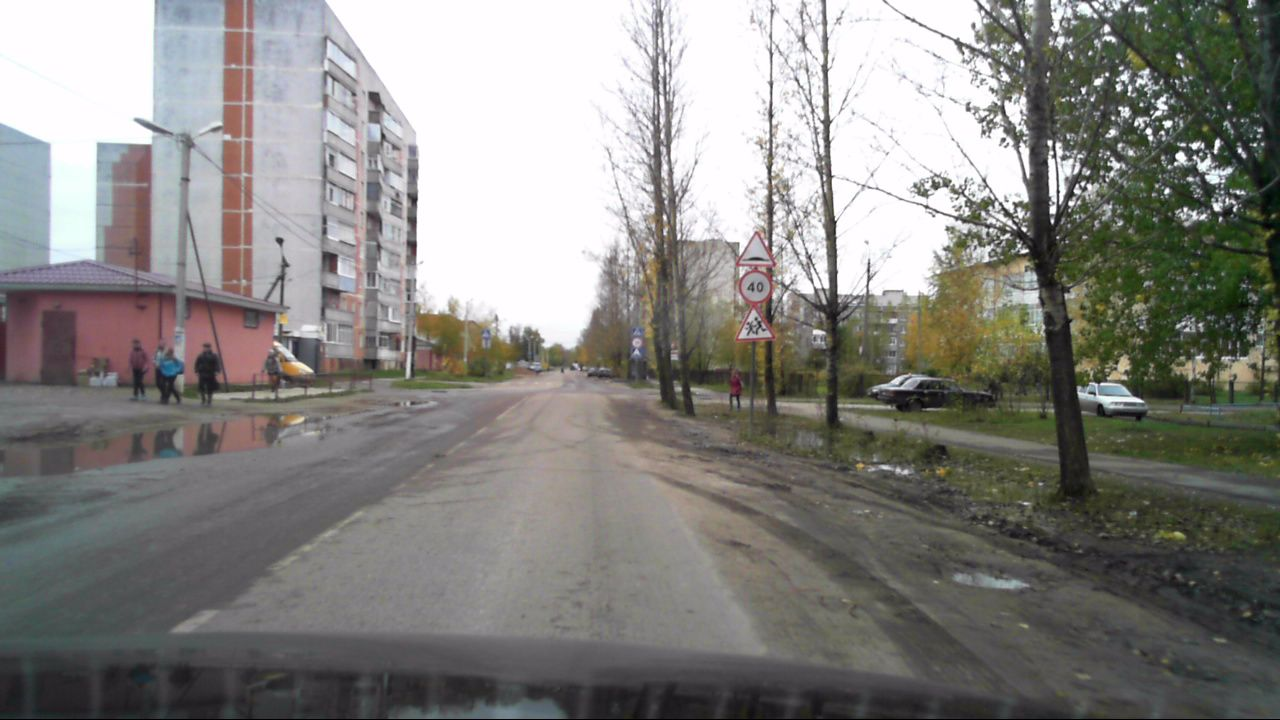speed_warning_40: (738, 270, 772, 303)
